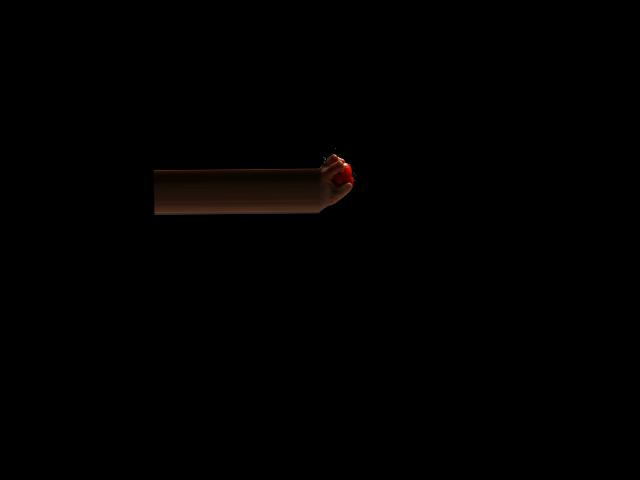tomato: (332, 163, 353, 187)
